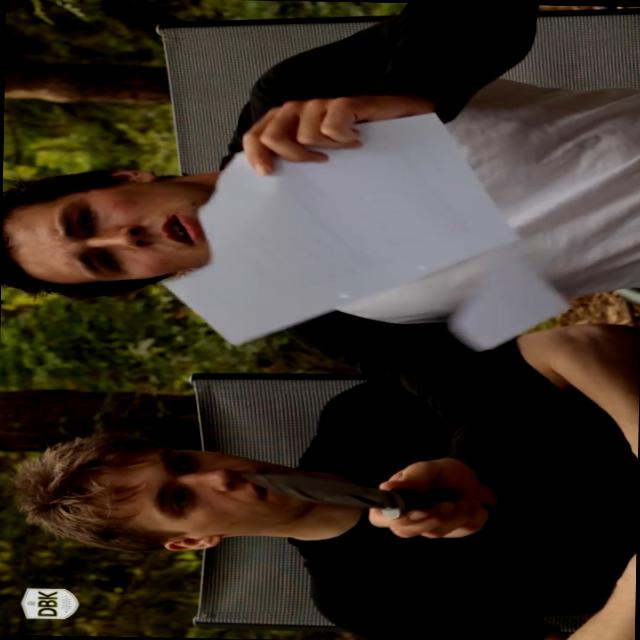knife: (226, 462, 499, 530)
